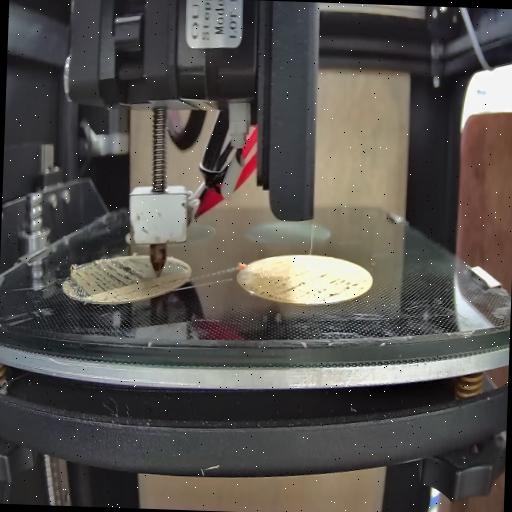under_extrusion: (64, 252, 152, 301), (245, 271, 310, 303), (318, 272, 360, 302)
